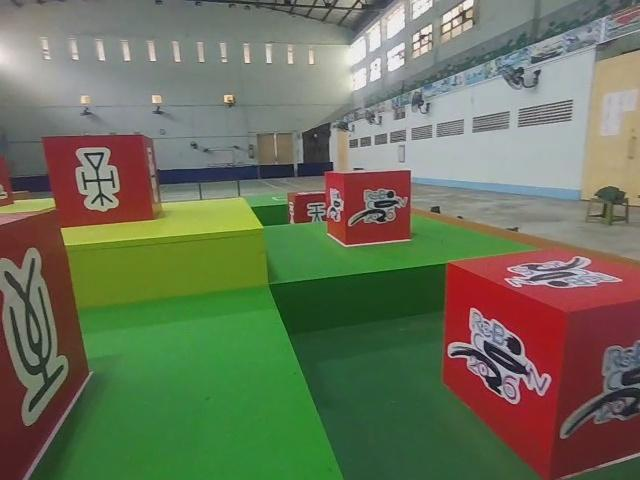R1: (438, 242, 640, 480), (326, 171, 414, 245)
R2 Fake: (0, 207, 93, 480)
R2 Real: (40, 133, 163, 229)
